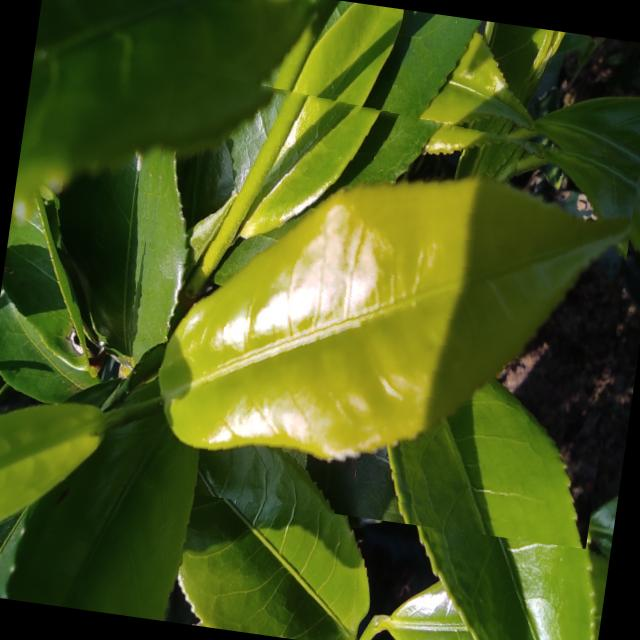Category B(2-4 days): (103, 64, 640, 548)
